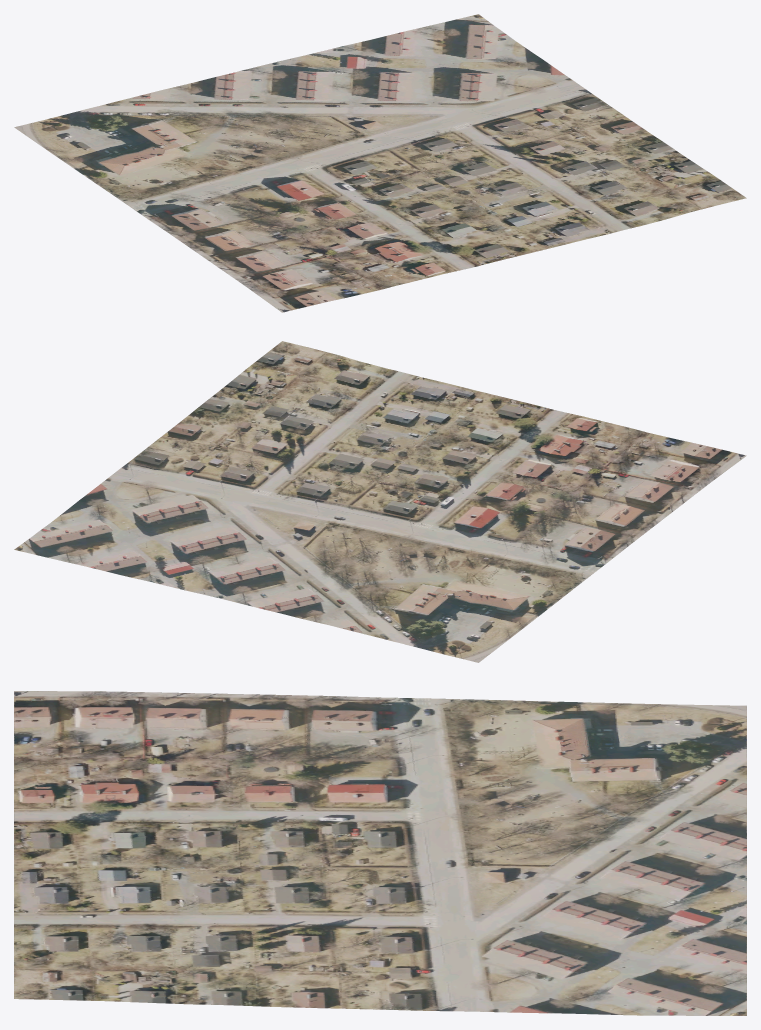
The model's file is CM_Terrain_24489230_6819180.fbx.
3 views of the same model, one above another, from view 1: azimuth 30°, elevation 25°; view 2: azimuth 150°, elevation 25°; view 3: azimuth 270°, elevation 25° (orthographic). The views are drawn at different scales.
Parts seen in each view (by area): view 1: CM_Terrain_24489230_6819180_LOD0; view 2: CM_Terrain_24489230_6819180_LOD0; view 3: CM_Terrain_24489230_6819180_LOD0.
Boxes of the visible parts, x1,y1,x2,y2 form: CM_Terrain_24489230_6819180_LOD0: (14, 14, 746, 312); CM_Terrain_24489230_6819180_LOD0: (14, 341, 746, 662); CM_Terrain_24489230_6819180_LOD0: (14, 691, 746, 1015).
Size of what is drawn, in the model's own units: 205 by 5.24 by 205.
